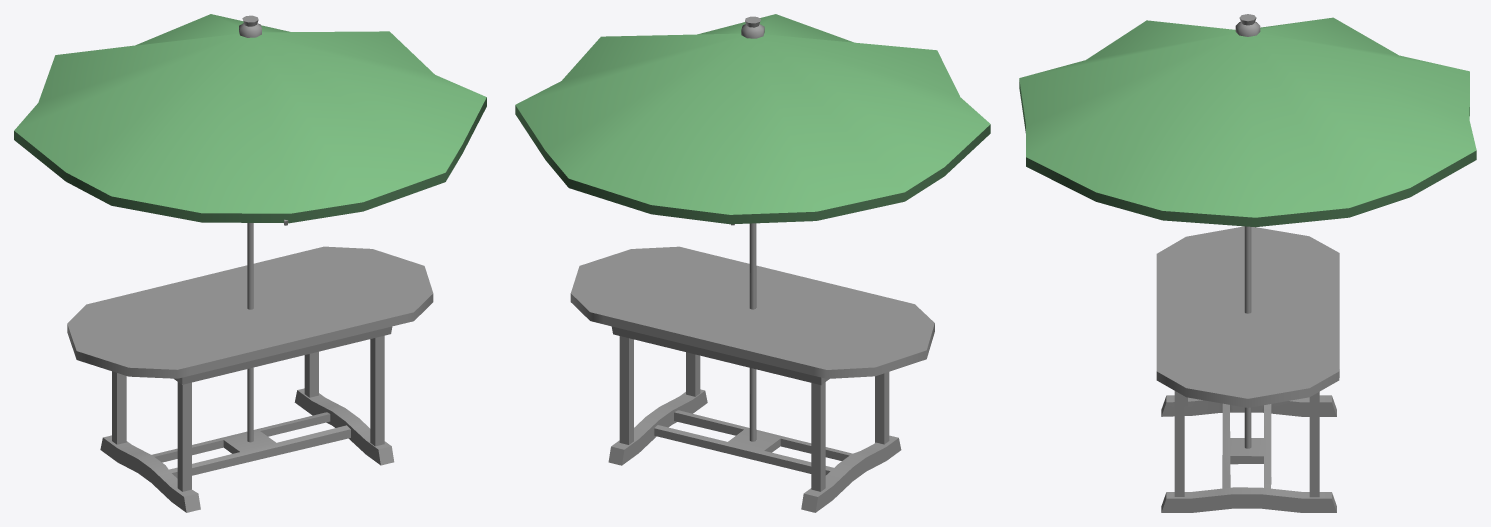
Rendered from SM_Prop_Outdoor_Table_01.obj.
The picture shows the model from 3 angles, left to right: view 1: azimuth 30°, elevation 25°; view 2: azimuth 150°, elevation 25°; view 3: azimuth 270°, elevation 25°; orthographic projection. The views are drawn at different scales.
Visible parts, largest first — view 1: SM_Prop_Outdoor_Table_01_Mat_SwatchOverlay_PolygonTown_01_Inst, SM_Prop_Outdoor_Table_01_Mat_SwatchOverlay_PolygonTown_01_Wood_I; view 2: SM_Prop_Outdoor_Table_01_Mat_SwatchOverlay_PolygonTown_01_Inst, SM_Prop_Outdoor_Table_01_Mat_SwatchOverlay_PolygonTown_01_Wood_I; view 3: SM_Prop_Outdoor_Table_01_Mat_SwatchOverlay_PolygonTown_01_Inst, SM_Prop_Outdoor_Table_01_Mat_SwatchOverlay_PolygonTown_01_Wood_I.
Part boxes in pixels (box(x1,y1,x2,y2)): SM_Prop_Outdoor_Table_01_Mat_SwatchOverlay_PolygonTown_01_Inst: box(14, 14, 486, 223); SM_Prop_Outdoor_Table_01_Mat_SwatchOverlay_PolygonTown_01_Wood_I: box(67, 15, 433, 512); SM_Prop_Outdoor_Table_01_Mat_SwatchOverlay_PolygonTown_01_Inst: box(515, 14, 990, 224); SM_Prop_Outdoor_Table_01_Mat_SwatchOverlay_PolygonTown_01_Wood_I: box(570, 16, 934, 512); SM_Prop_Outdoor_Table_01_Mat_SwatchOverlay_PolygonTown_01_Inst: box(1019, 17, 1476, 227); SM_Prop_Outdoor_Table_01_Mat_SwatchOverlay_PolygonTown_01_Wood_I: box(1156, 14, 1339, 512).
Size of the model in its own units: 2.33 by 2.5 by 2.33.
Materials: 2 (2 with a texture image).
